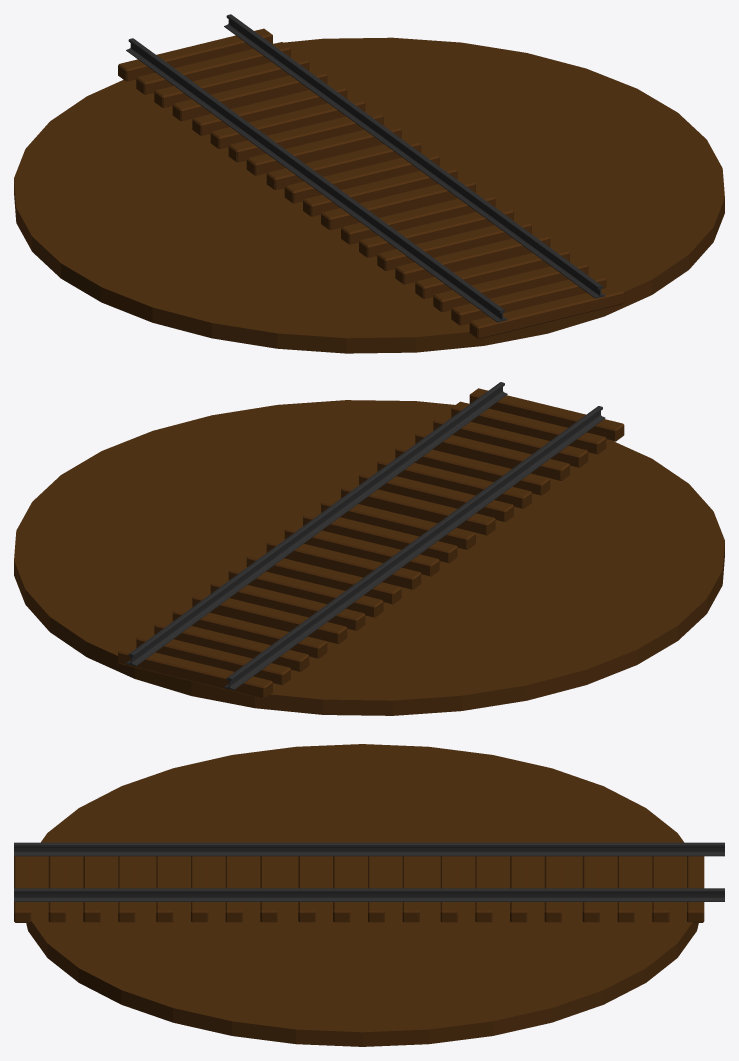
The model's file is railturntable.gltf.
3 renders of one model, top to bottom at view 1: azimuth 30°, elevation 25°; view 2: azimuth 150°, elevation 25°; view 3: azimuth 270°, elevation 25°, orthographic. The views are drawn at different scales.
Parts seen in each view (by area): view 1: Track; view 2: Track; view 3: Track.
Part boxes in pixels (bbox=[...]): Track: bbox=[14, 14, 724, 353]; Track: bbox=[14, 382, 724, 715]; Track: bbox=[14, 744, 724, 1046].
Size of the model in its own units: 12.1 by 0.7147 by 12.61.
